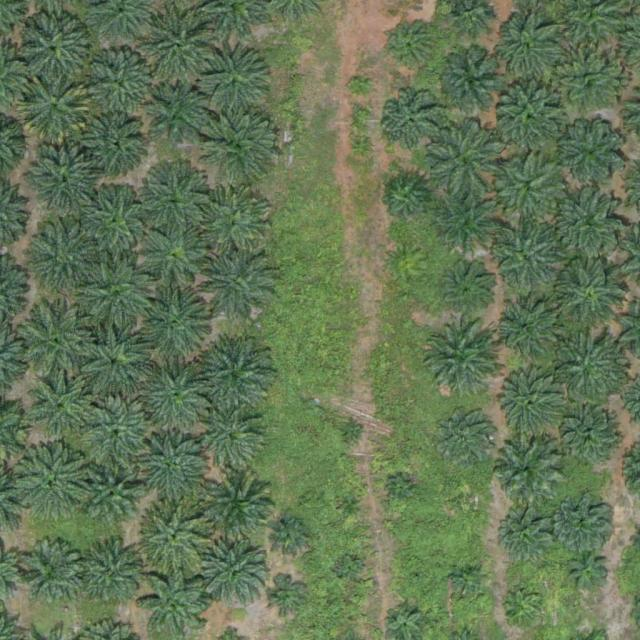Healthy: (199, 44, 277, 123), (199, 104, 277, 183), (138, 11, 216, 90), (14, 14, 92, 93), (425, 120, 503, 199), (137, 161, 215, 240), (79, 184, 157, 263), (196, 185, 274, 264), (17, 304, 95, 383), (21, 221, 99, 300), (24, 141, 102, 220), (77, 261, 155, 340), (73, 325, 151, 404), (78, 401, 156, 480), (133, 433, 211, 512), (138, 362, 216, 441), (134, 286, 212, 365), (198, 247, 276, 326), (196, 338, 274, 417), (203, 476, 281, 555), (421, 320, 499, 399), (16, 446, 94, 524), (553, 329, 631, 407), (86, 47, 157, 118), (141, 567, 212, 638), (552, 46, 622, 117), (497, 84, 567, 155), (490, 12, 561, 82), (141, 85, 212, 155), (558, 115, 628, 186), (494, 369, 564, 440), (490, 434, 560, 505), (555, 187, 625, 258), (202, 542, 272, 613), (496, 157, 566, 227), (434, 189, 504, 259), (493, 224, 563, 294), (555, 258, 625, 328), (142, 502, 212, 572), (440, 53, 503, 116), (202, 410, 265, 473), (559, 407, 622, 470), (380, 92, 443, 154), (83, 111, 145, 174), (31, 378, 93, 441), (144, 229, 207, 291), (434, 407, 496, 470), (498, 299, 560, 362), (556, 491, 618, 554), (82, 544, 144, 607), (19, 543, 81, 606), (385, 21, 440, 76), (84, 470, 139, 525), (441, 260, 495, 315), (502, 512, 556, 567), (384, 175, 431, 223)
Small: (265, 577, 305, 617), (448, 562, 488, 601), (569, 550, 608, 590), (272, 516, 311, 555), (506, 590, 545, 629), (337, 556, 361, 580), (340, 495, 364, 519), (340, 420, 364, 444), (349, 77, 372, 101), (456, 491, 480, 514), (391, 479, 414, 503), (410, 572, 426, 588)
Yellow: (18, 74, 96, 152)
